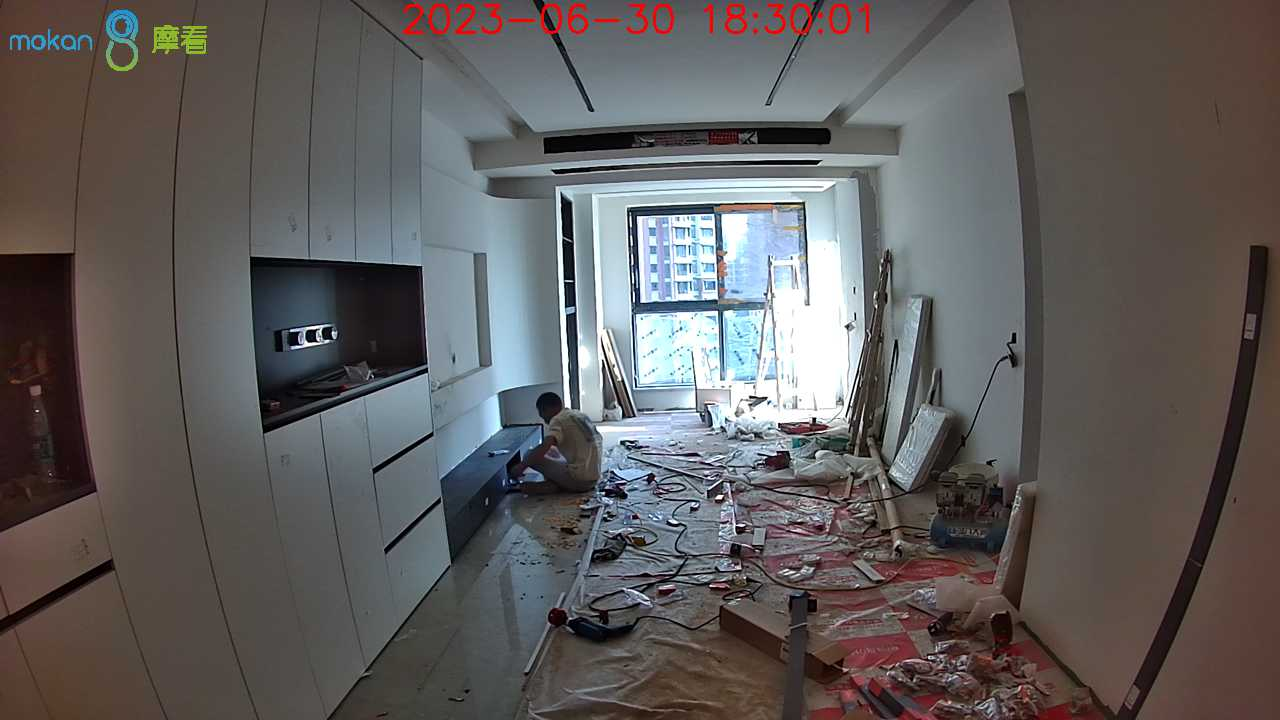people: (512, 392, 604, 498)
window: (630, 207, 808, 386)
